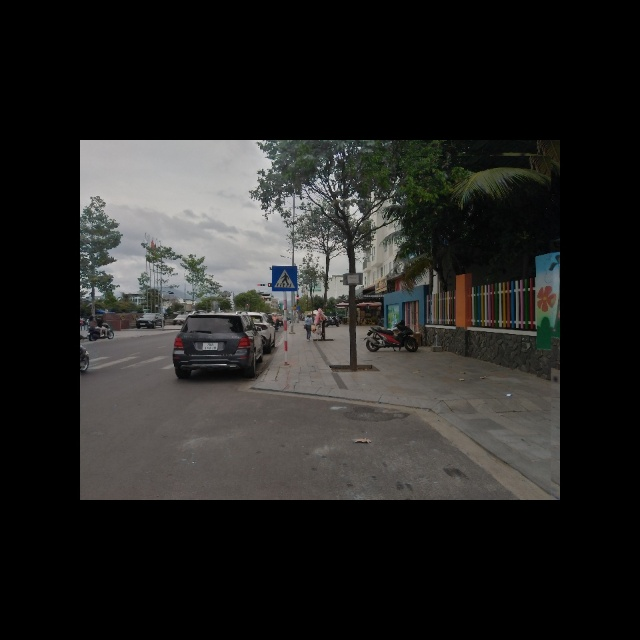Đường dành cho người đi bộ: (273, 265, 298, 292)
